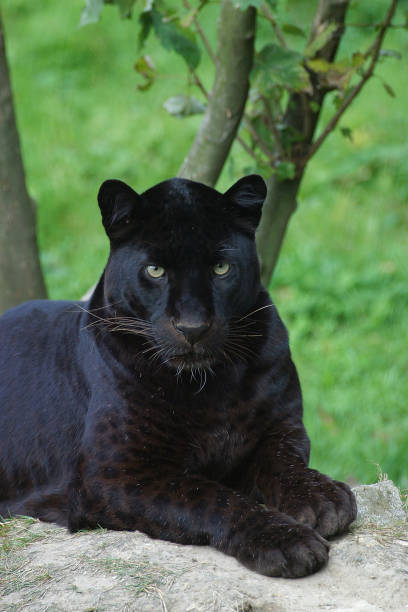panther: (63, 165, 281, 389)
